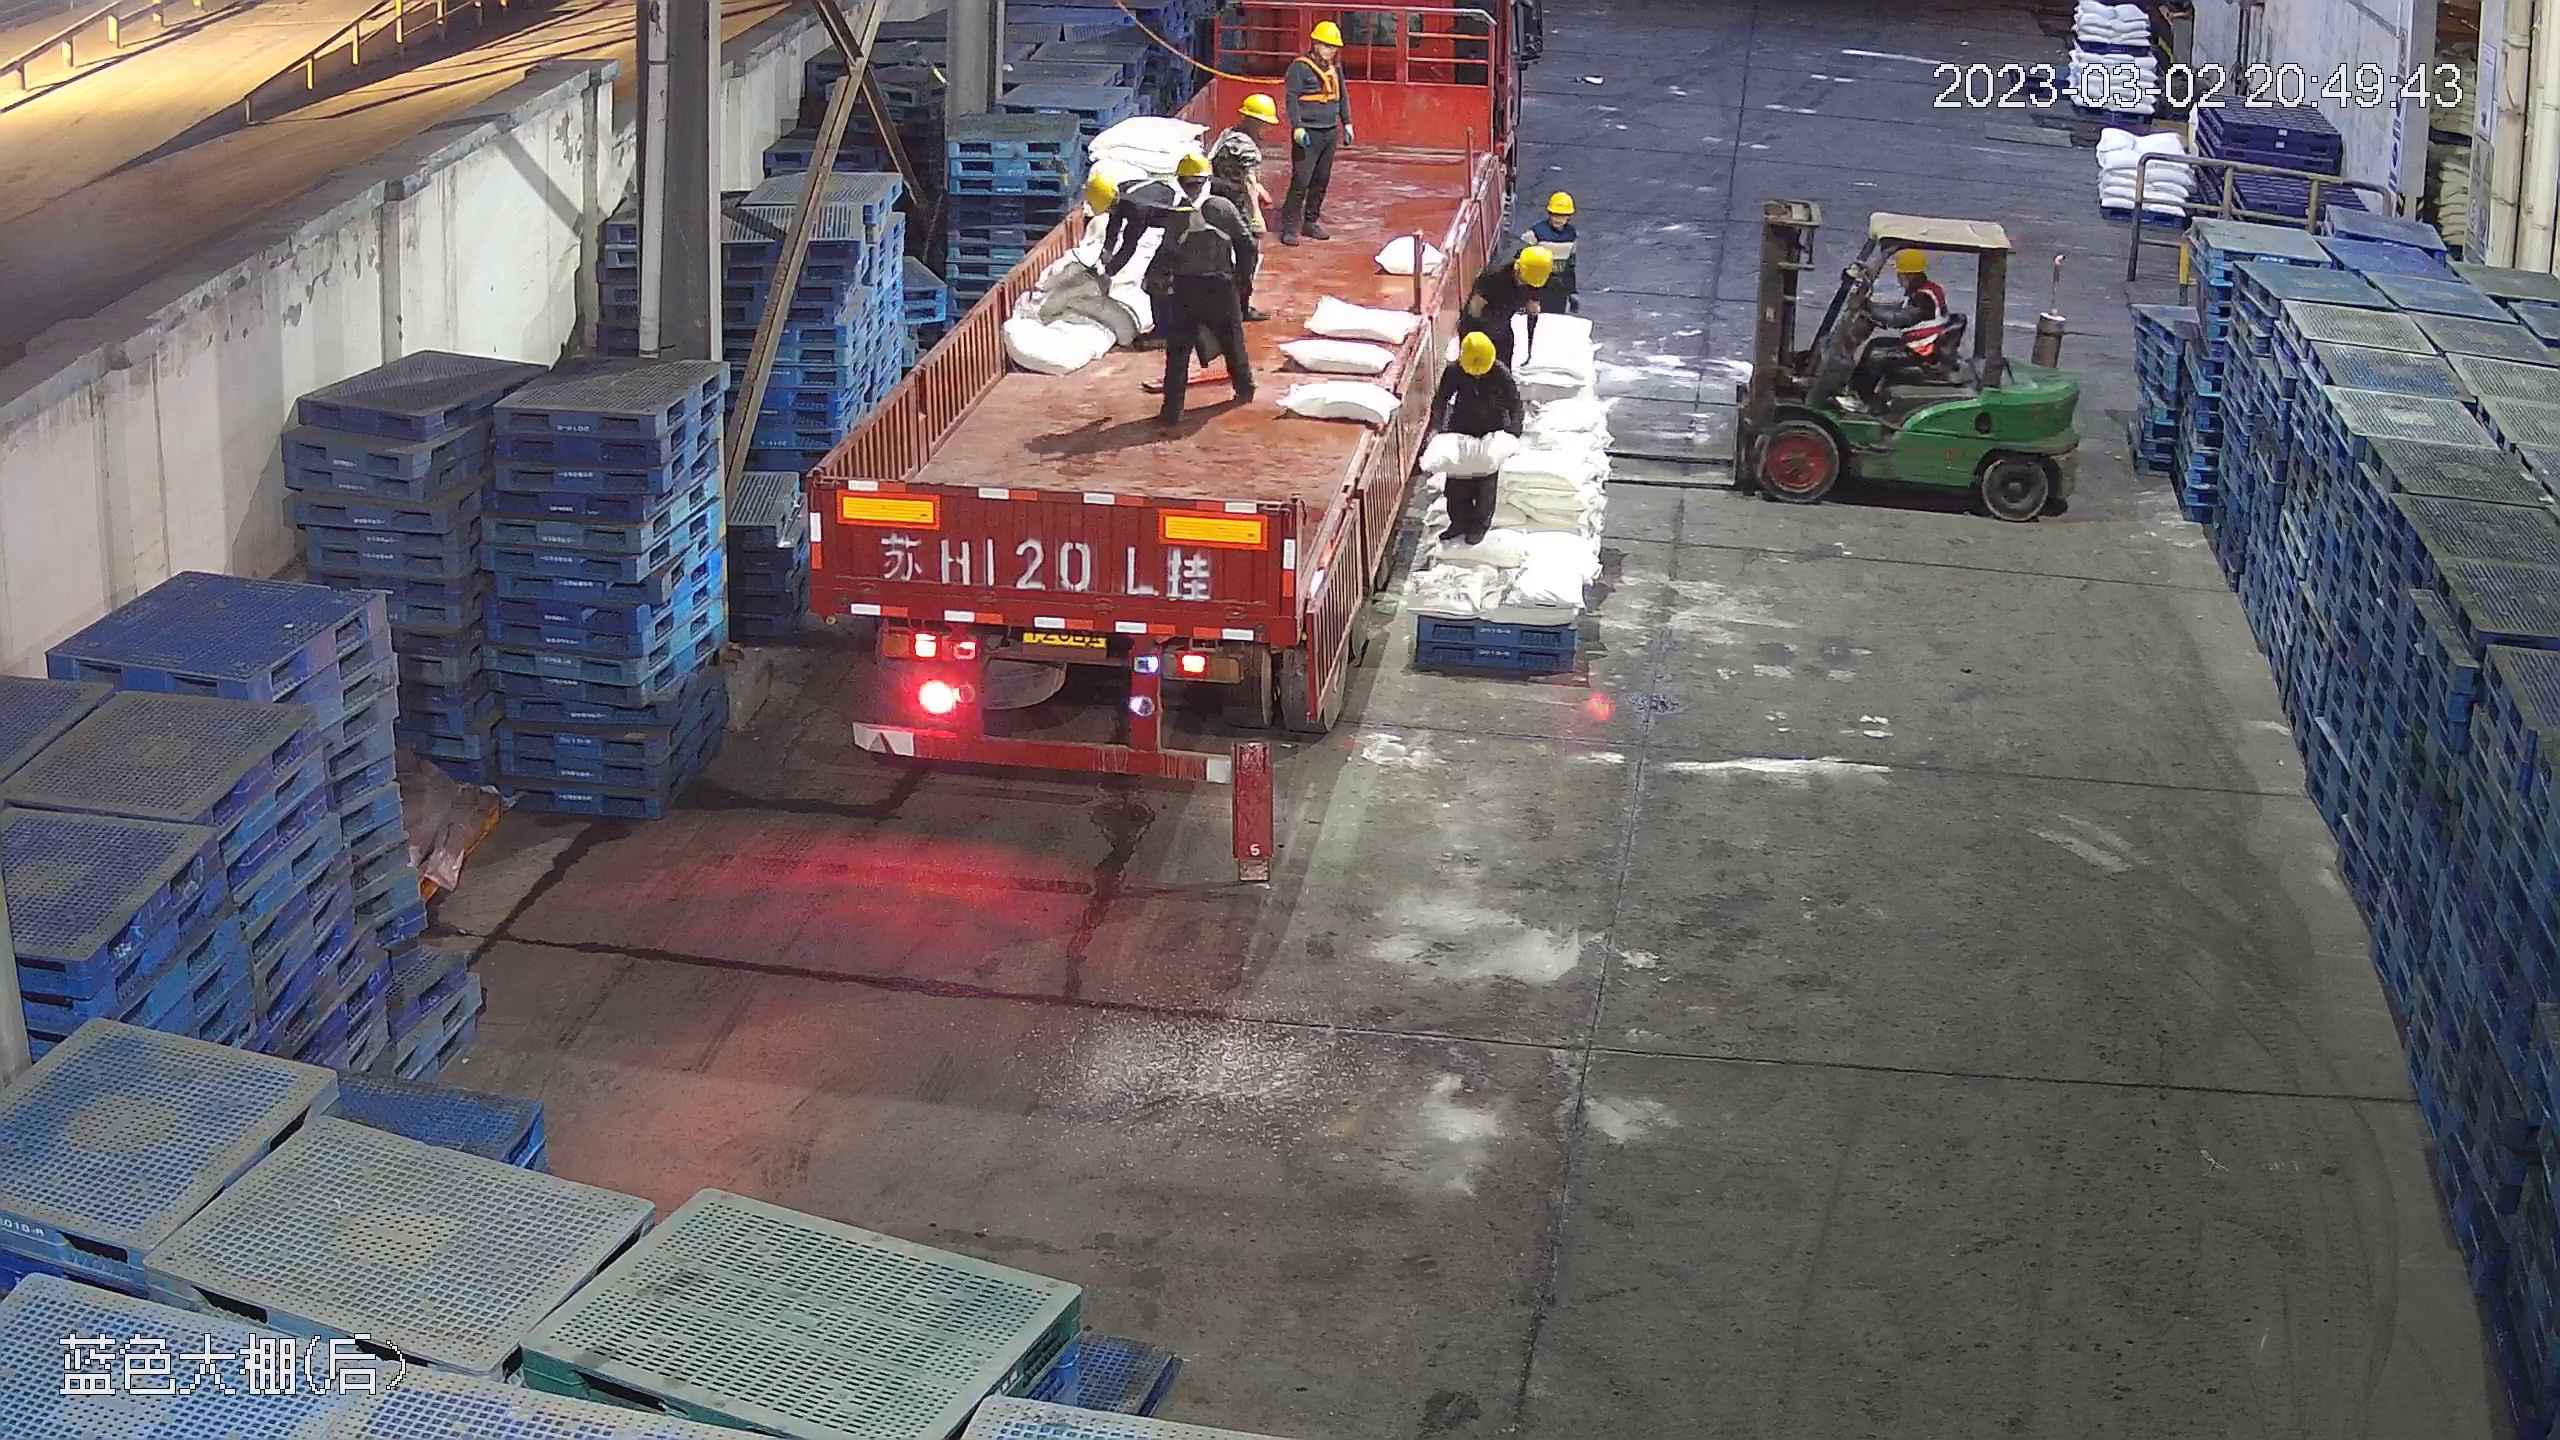belt: (1166, 190, 1235, 255), (1125, 167, 1190, 218), (1294, 50, 1345, 107), (1208, 130, 1257, 178)
head: (1484, 220, 1565, 304), (1439, 333, 1517, 414), (1152, 157, 1238, 229), (1084, 166, 1163, 228), (1214, 92, 1281, 157), (1289, 17, 1348, 87), (1887, 244, 1947, 312), (1528, 188, 1585, 252)
helmet: (1456, 330, 1500, 376), (1517, 247, 1554, 284), (1240, 94, 1277, 125), (1892, 244, 1931, 274), (1174, 151, 1211, 181), (1086, 175, 1117, 213), (1310, 20, 1347, 46), (1547, 191, 1574, 215)
people: (1143, 146, 1263, 416), (1428, 328, 1519, 547), (1205, 88, 1283, 323), (1280, 15, 1356, 235), (1844, 245, 1952, 396), (1086, 160, 1185, 307), (1455, 244, 1556, 377), (1513, 188, 1581, 318)
truck: (811, 41, 1538, 779)
